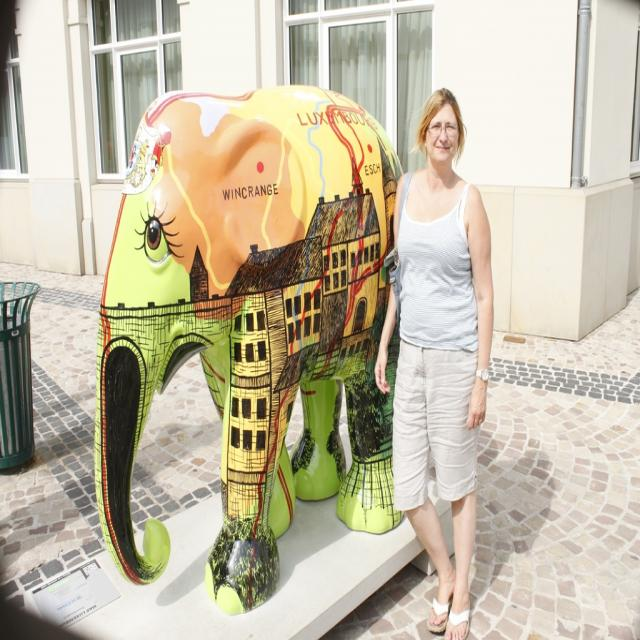elephant: (91, 85, 406, 612)
